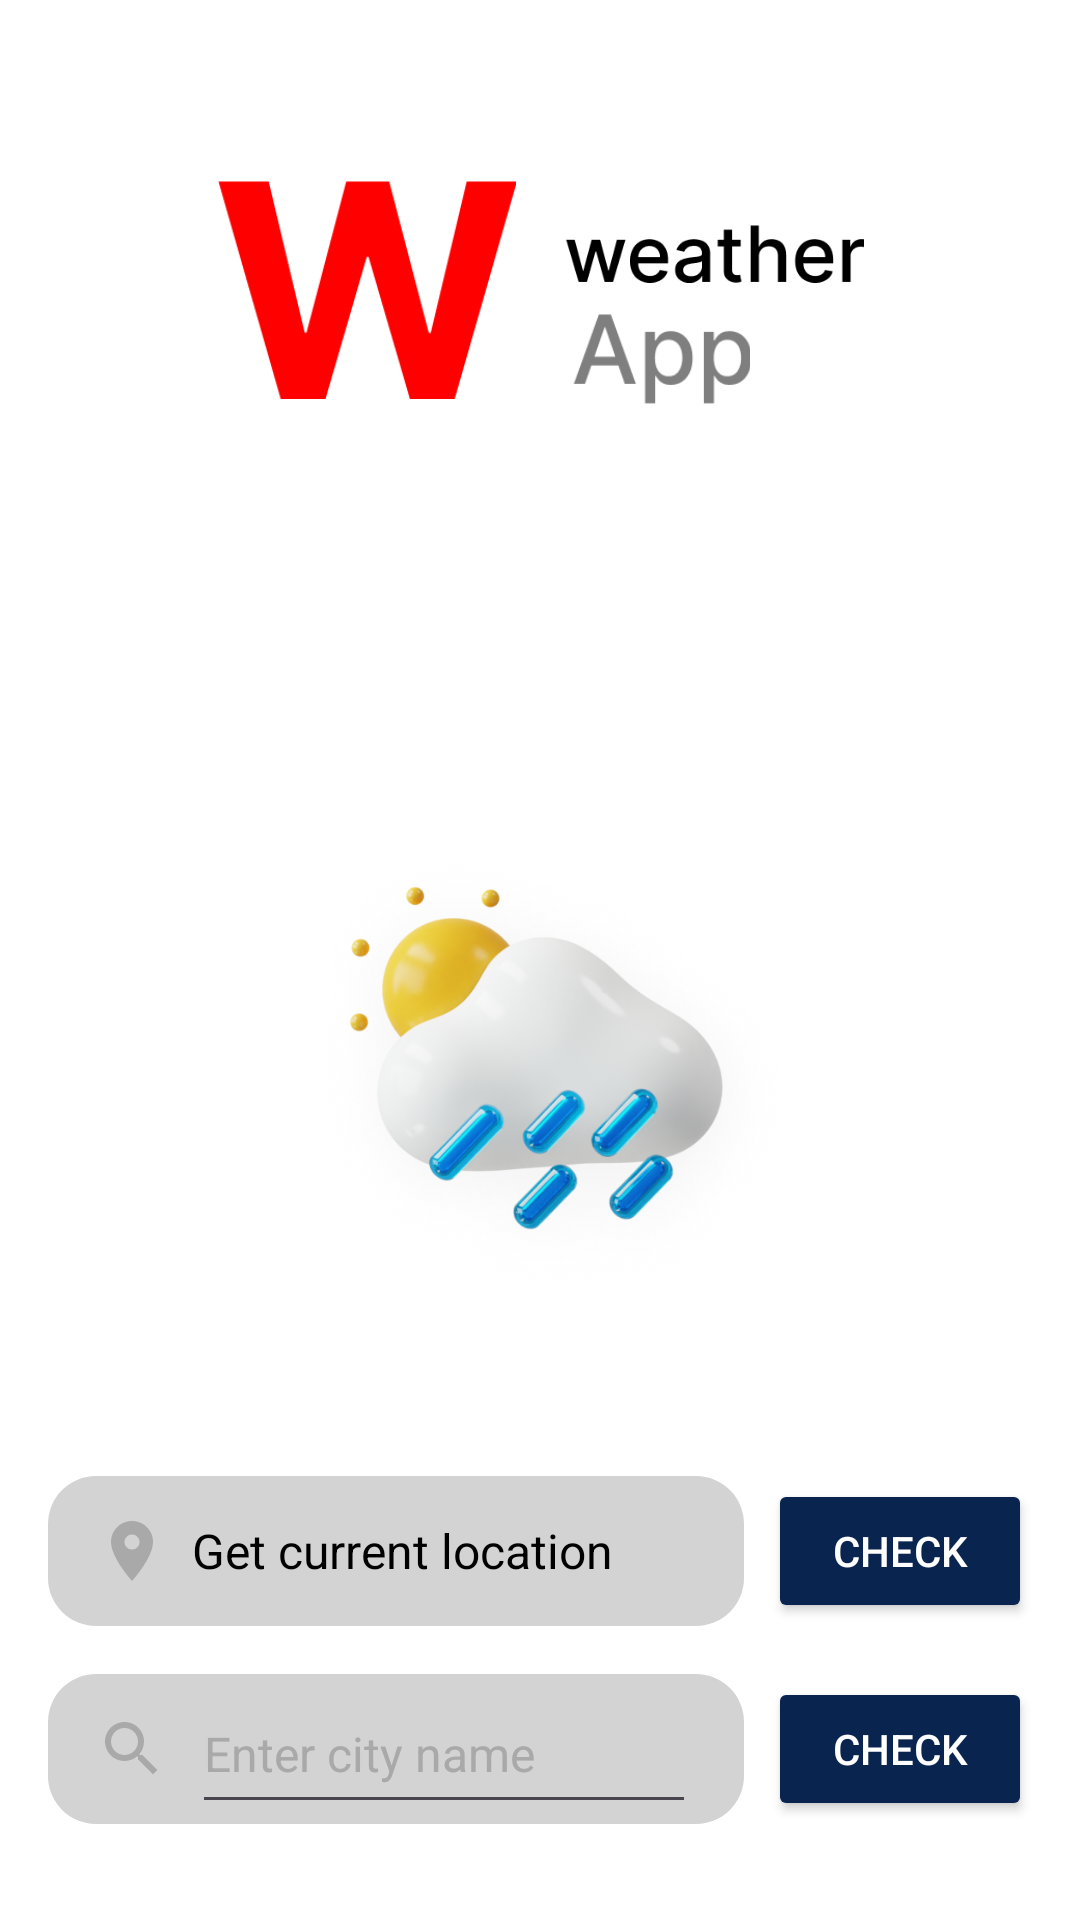

Screen size 1080×1920. Icon name, then its center in pixels as [x,y]:
Search icon: [131,1748]
